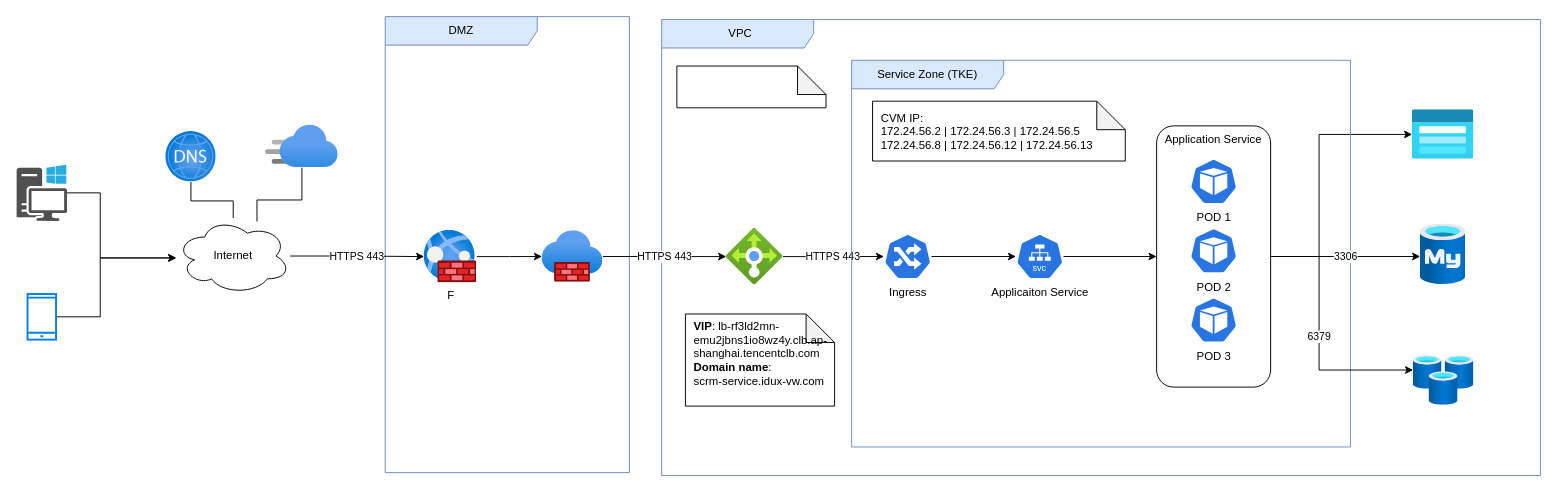
This 1557x492 diagram has some shape labels left out. The centre of each missing label's shape, as x and y in pixels:
"CDN" belongs at (301,145).
"CLB" belongs at (754,256).
"Cloud VPC Network CIDR: 172.24.56.0/26" belongs at (751,86).
"MySQL" belongs at (1442,253).
"Redis" belongs at (1443,380).
"WAF" belongs at (572,256).
